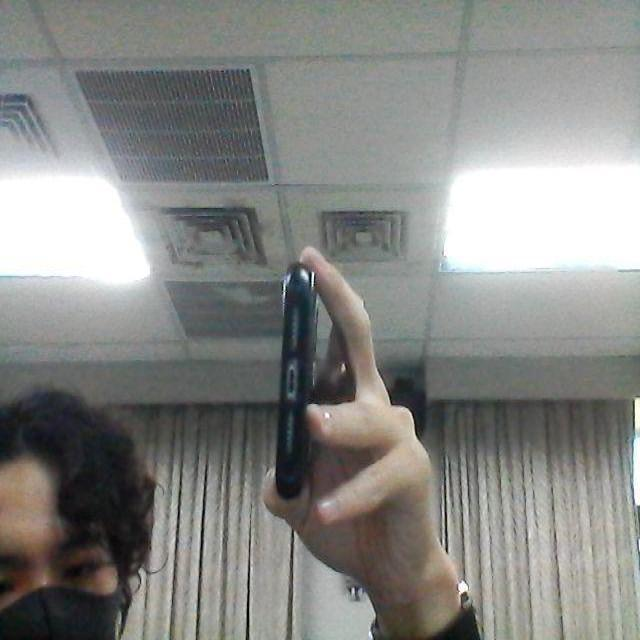phone: (272, 261, 318, 509)
